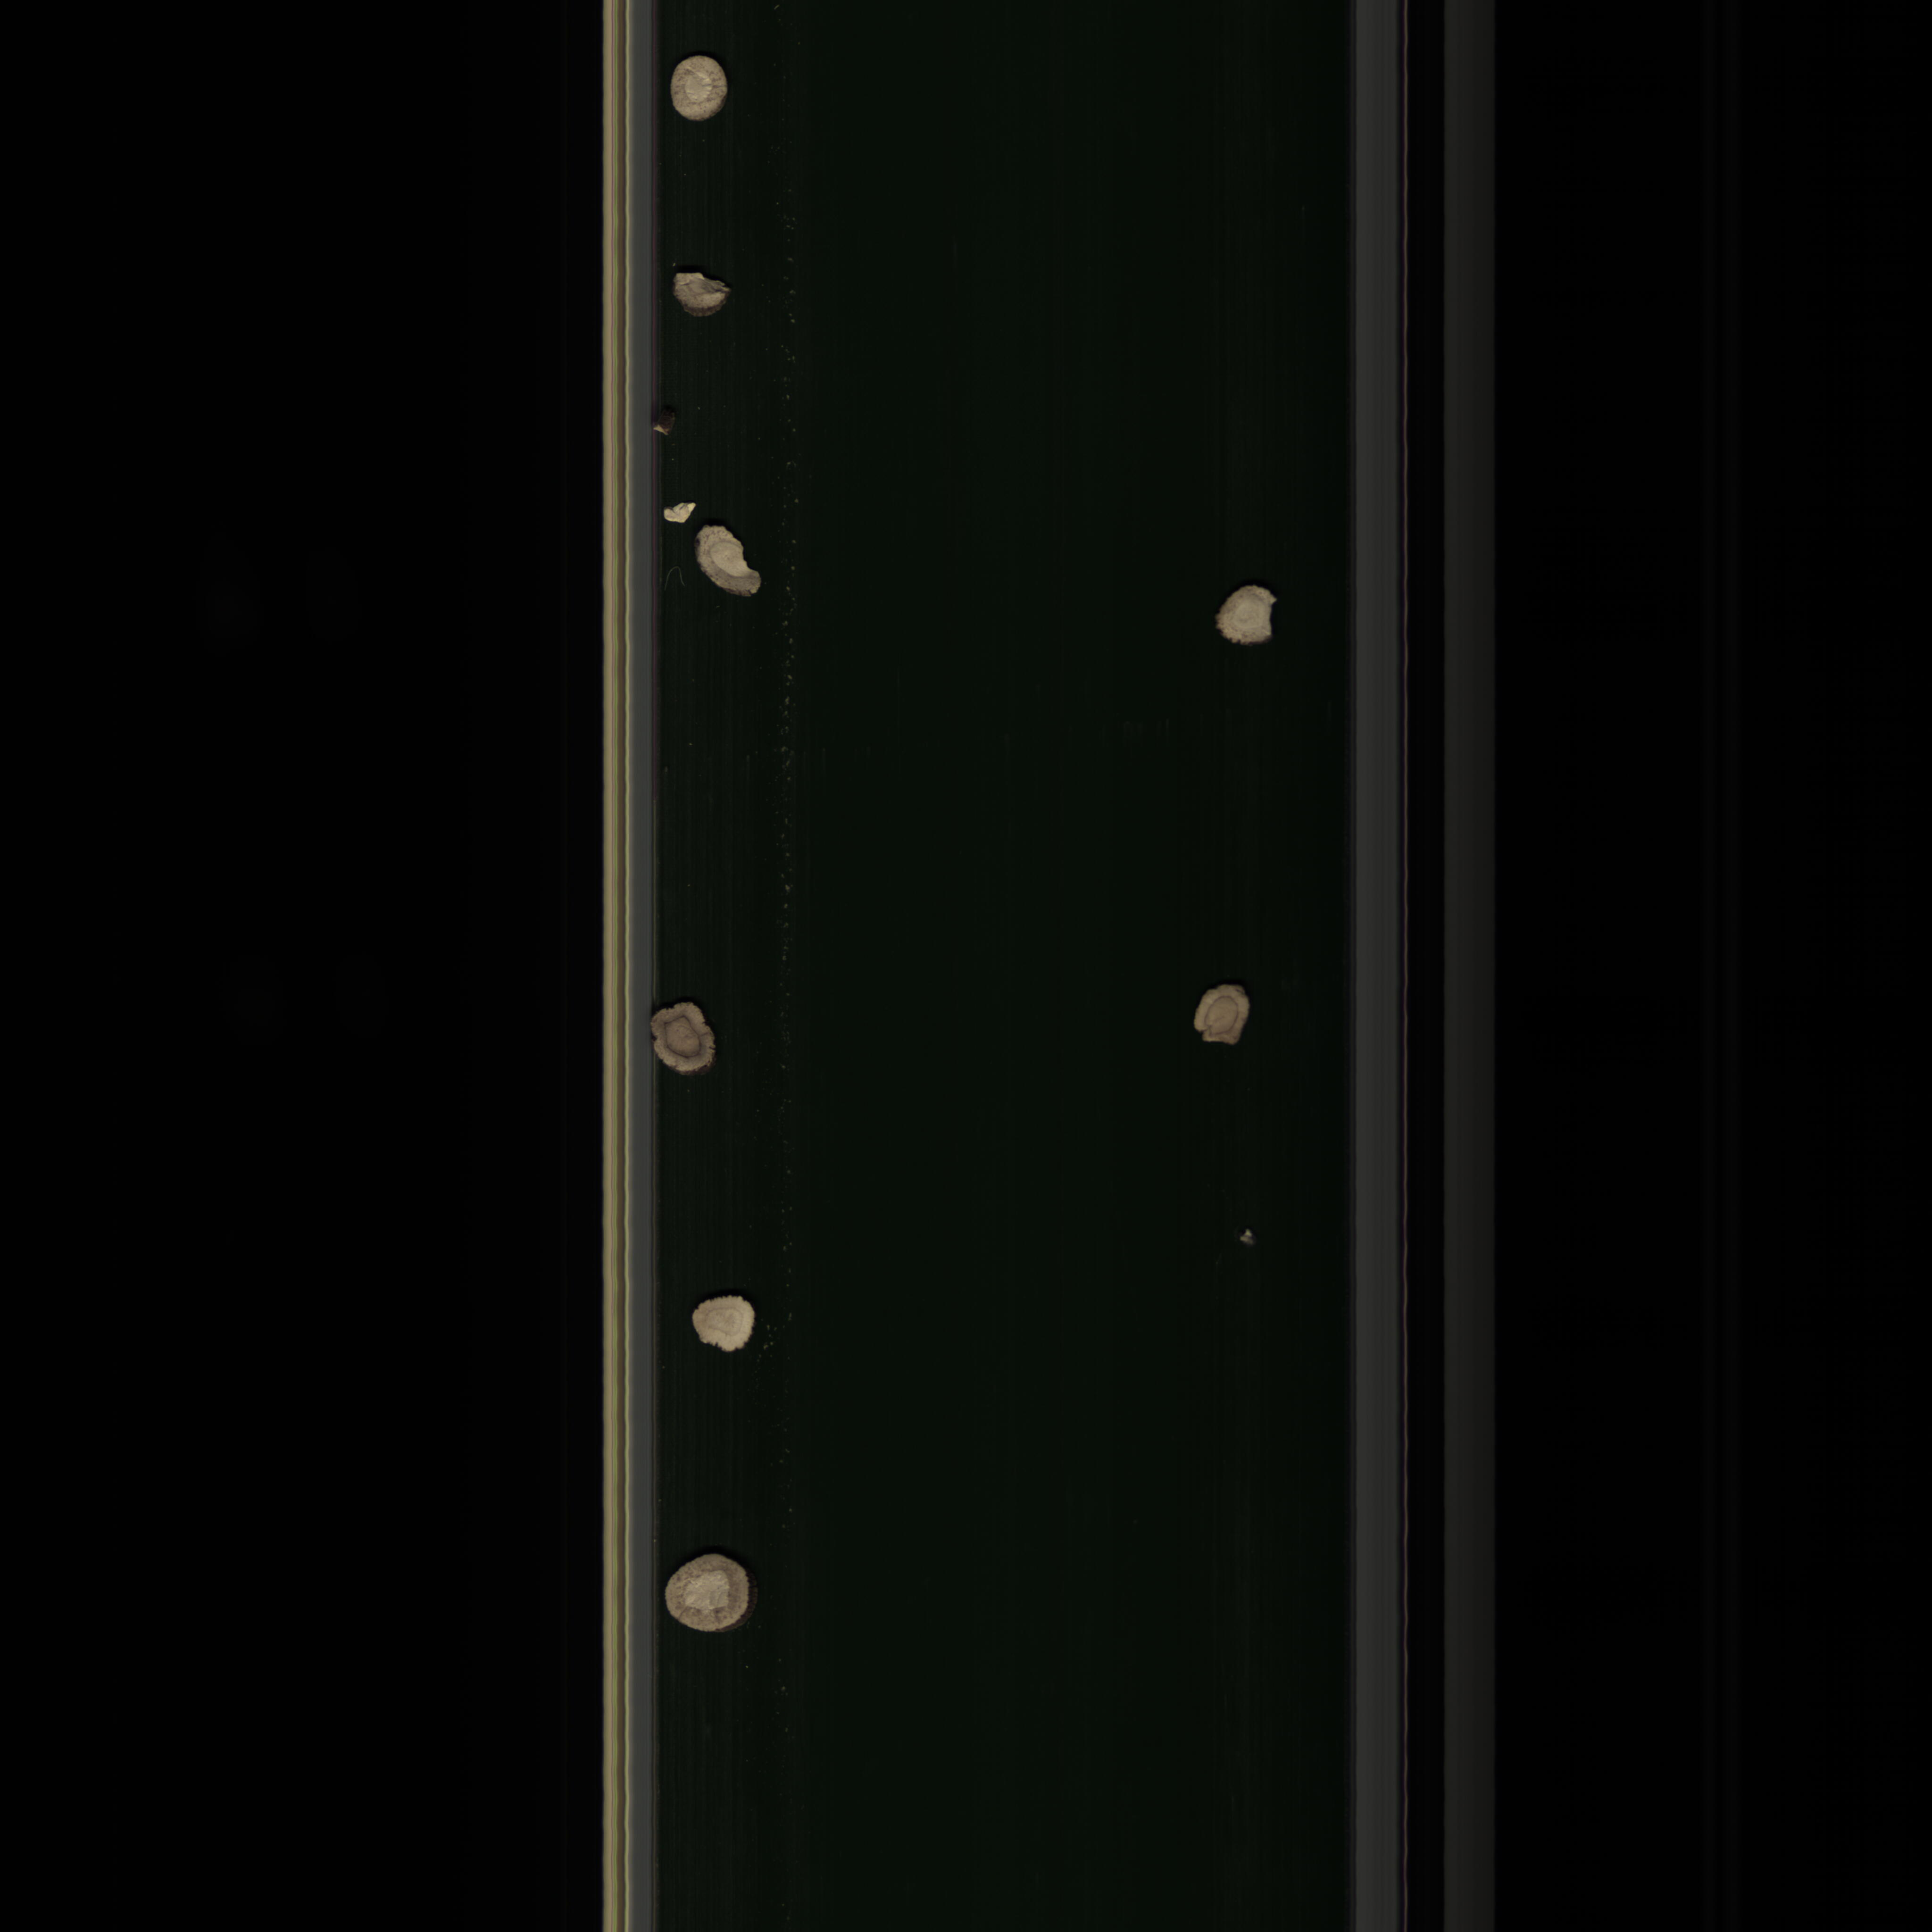debris: (1210, 575, 1290, 662), (692, 520, 768, 605), (665, 267, 741, 327)
moldy: (640, 993, 722, 1095), (1189, 970, 1254, 1060)
